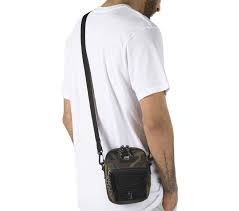shoulder bag: (13, 12, 209, 208)
